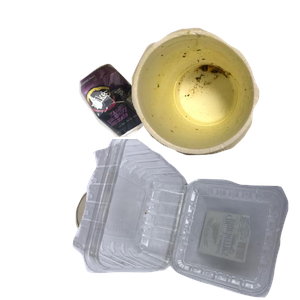glass: (73, 184, 214, 300)
metal: (77, 61, 222, 191)
plastic: (70, 139, 300, 300)
trash: (129, 25, 300, 173)
